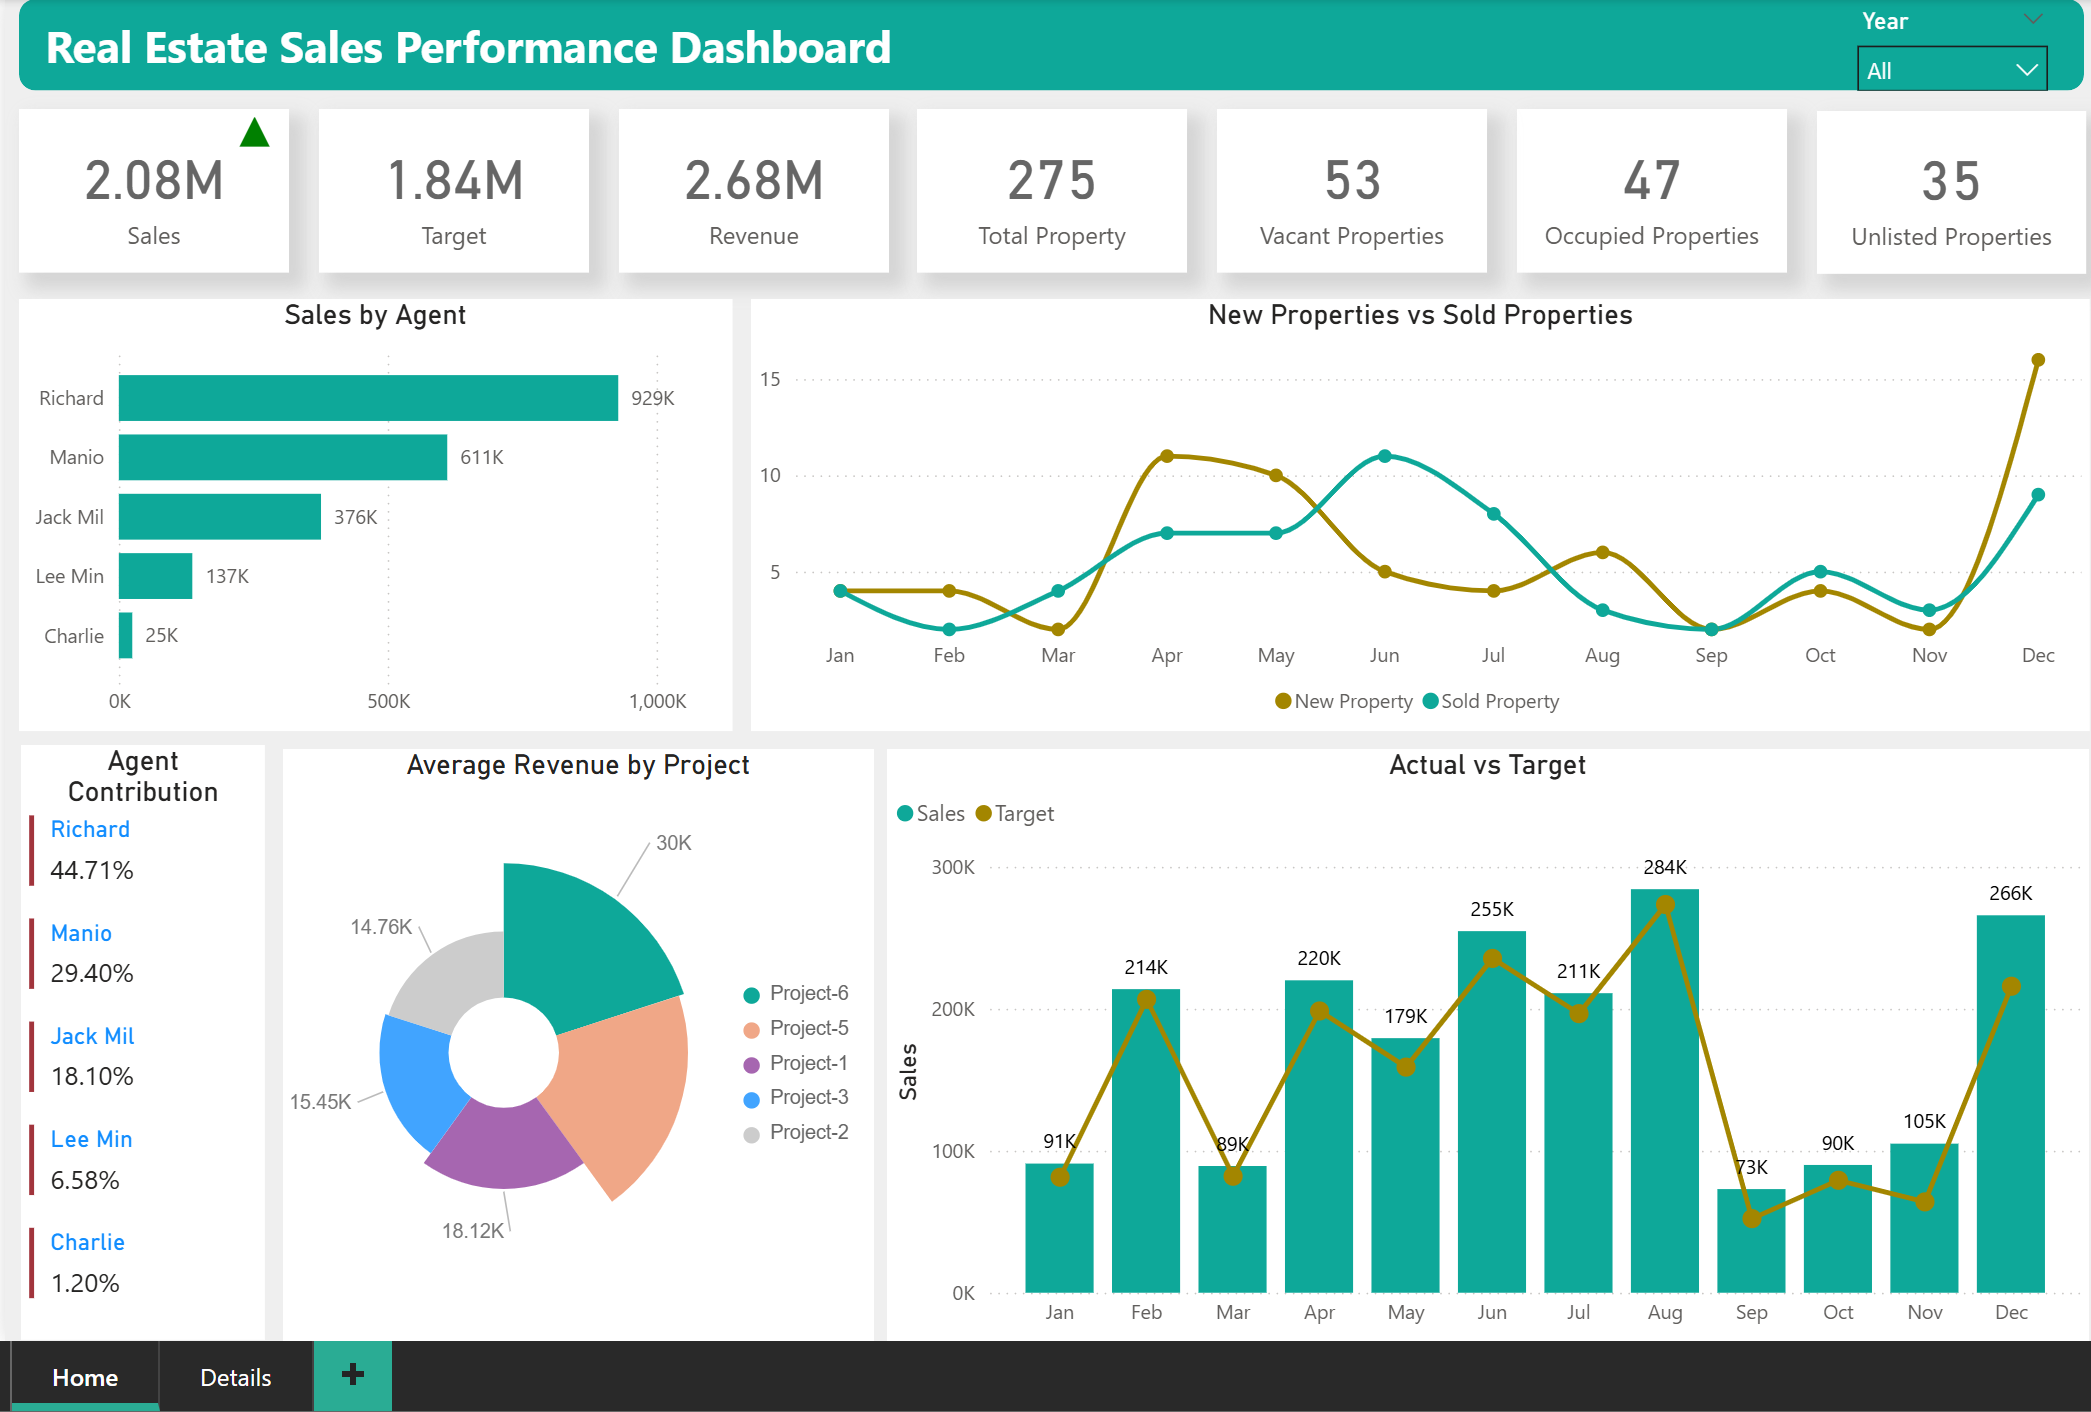

Layout of this report page (visuals, bound fields, positions):
{"tool":"powerbi","page":{"name":"Home","canvas":[1280,820],"ordinal":0},"visuals":[{"type":"shape","box":[9.1,0,1261.8,55.9],"z":0},{"type":"textbox","box":[19.5,5.2,539.8,45.5],"z":1000},{"type":"card","fields":{"Values":["Sum(Real Estate Data.Sales)"]},"box":[8.9,67.6,165,100],"z":2000},{"type":"card","fields":{"Values":["Sum(Real Estate Data.Target)"]},"box":[191.9,67.1,165,100.2],"z":3000},{"type":"card","fields":{"Values":["Sum(Real Estate Data.Revenue)"]},"box":[374.8,67.3,165,100.2],"z":4000},{"type":"card","fields":{"Values":["Sum(Real Estate Data.Total Property)"]},"box":[557.8,67.6,165,100.2],"z":5000},{"type":"card","fields":{"Values":["Real Estate Data.Occupied"]},"box":[923.7,67.6,165,100.2],"z":6000},{"type":"card","fields":{"Values":["Real Estate Data.Vacant"]},"box":[740.7,67.8,165,100.2],"z":7000},{"type":"card","fields":{"Values":["Real Estate Data.Unlisted"]},"box":[1106.6,68.1,164.5,99.4],"z":8000},{"type":"barChart","title":"Sales by Agent","fields":{"Category":["Real Estate Data.Agent"],"Y":["Sum(Real Estate Data.Sales)"]},"box":[9.1,183.4,435.8,264.1],"z":9000},{"type":"lineChart","title":"New Properties vs Sold Properties","fields":{"Category":["Date Table.Month Name"],"Y":["Real Estate Data.New Property","Real Estate Data.Sold Property"]},"box":[455.3,183.4,818.2,264.1],"z":10000},{"type":"multiRowCard","title":"Agent Contribution","fields":{"Values":["Real Estate Data.Agent","Real Estate Data.Agent Contribution"]},"box":[10.2,456.4,149.2,363.3],"z":11000},{"type":"AsterPlot1443303142064","title":"Average Revenue by Project","fields":{"Category":["Real Estate Data.Project Name"],"Y":["Avg(Real Estate Data.Revenue)"]},"box":[169.6,457.7,360.8,362.1],"z":12000},{"type":"lineStackedColumnComboChart","title":"Actual vs Target ","fields":{"Category":["Date Table.Month Name"],"Y":["Sum(Real Estate Data.Sales)"],"Y2":["Sum(Real Estate Data.Target)"]},"box":[539.3,457.7,734.3,362.1],"z":13000},{"type":"slicer","fields":{"Values":["Date Table.Year"]},"box":[1121.9,0,136.4,56.1],"z":14000},{"type":"card","fields":{"Values":["Real Estate Data.Icon Slaes"]},"box":[132.6,67.6,40.8,28],"z":15000}]}

Visuals, with their boxes on the page's 1280x820 design canvas (x1, y1, x2, y2). These are canvas units, not pixel positions in the 2091x1412 screenshot, which may show the page scaled, cropped or inside an application window:
shape: <box>9,0,1271,56</box>
textbox: <box>20,5,559,51</box>
card - Sum(Real Estate Data.Sales): <box>9,68,174,168</box>
card - Sum(Real Estate Data.Target): <box>192,67,357,167</box>
card - Sum(Real Estate Data.Revenue): <box>375,67,540,168</box>
card - Sum(Real Estate Data.Total Property): <box>558,68,723,168</box>
card - Real Estate Data.Occupied: <box>924,68,1089,168</box>
card - Real Estate Data.Vacant: <box>741,68,906,168</box>
card - Real Estate Data.Unlisted: <box>1107,68,1271,168</box>
"Sales by Agent" barChart: <box>9,183,445,448</box>
"New Properties vs Sold Properties" lineChart: <box>455,183,1274,448</box>
"Agent Contribution" multiRowCard: <box>10,456,159,820</box>
"Average Revenue by Project" AsterPlot1443303142064: <box>170,458,530,820</box>
"Actual vs Target " lineStackedColumnComboChart: <box>539,458,1274,820</box>
slicer - Date Table.Year: <box>1122,0,1258,56</box>
card - Real Estate Data.Icon Slaes: <box>133,68,173,96</box>
